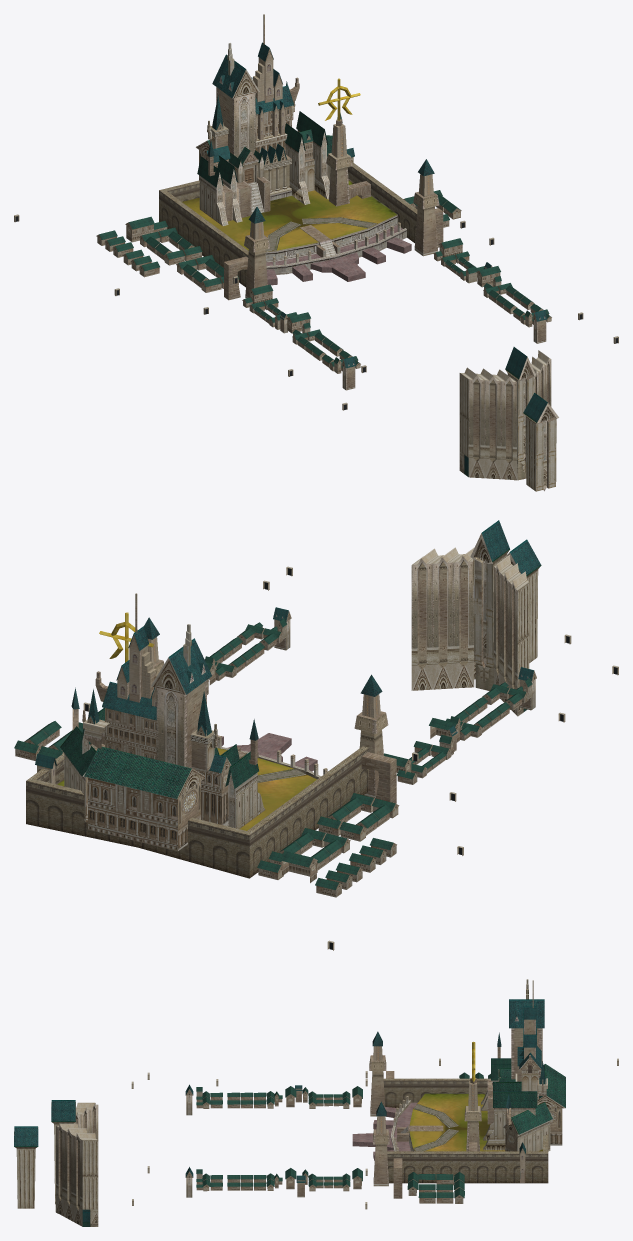
File: Maincity_Castle01.FBX
The picture shows the model from 3 angles, top to bottom: view 1: azimuth 30°, elevation 25°; view 2: azimuth 150°, elevation 25°; view 3: azimuth 270°, elevation 25°; orthographic projection. The views are drawn at different scales.
Parts seen in each view (by area): view 1: Castle; view 2: Castle; view 3: Castle.
Boxes of the visible parts, x1=… form: Castle: x1=14, y1=14, x2=618, y2=491; Castle: x1=14, y1=520, x2=618, y2=950; Castle: x1=14, y1=979, x2=618, y2=1226.
Bounding box in the file's own units: 10520 × 7880 × 18540.
